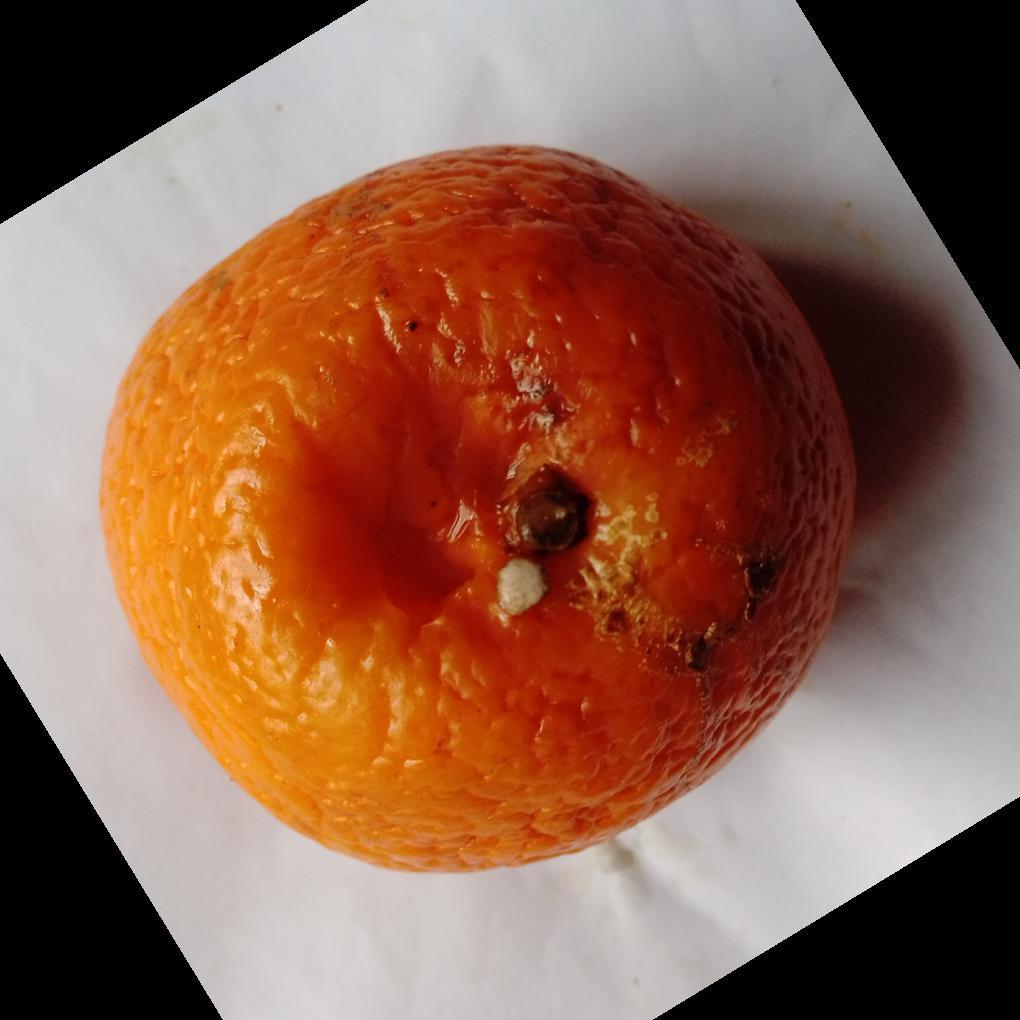FreshOrange: (96, 145, 858, 880)
